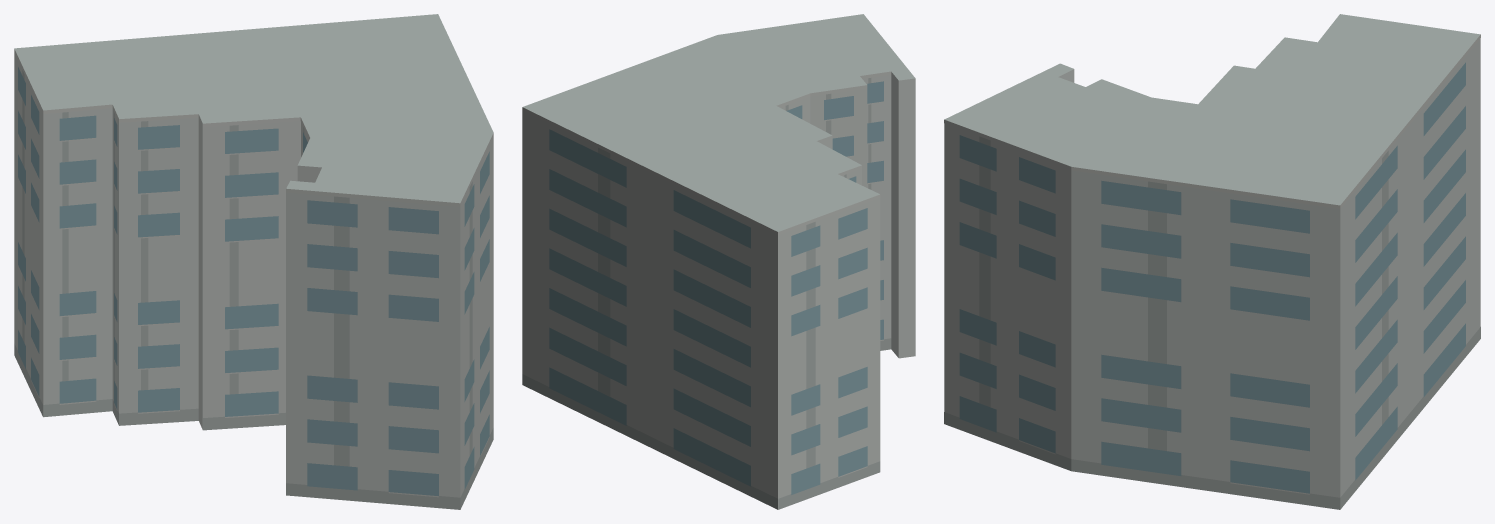
The model's file is survey-upis-32525766.glb.
3 views of the same model, side by side, from view 1: azimuth 30°, elevation 25°; view 2: azimuth 150°, elevation 25°; view 3: azimuth 270°, elevation 25° (orthographic). The views are drawn at different scales.
Parts seen in each view (by area): view 1: survey-upis-32525766.tmp; view 2: survey-upis-32525766.tmp; view 3: survey-upis-32525766.tmp.
Boxes of the visible parts, x1,y1,x2,y2 form: survey-upis-32525766.tmp: (14,14,493,509); survey-upis-32525766.tmp: (522,14,915,509); survey-upis-32525766.tmp: (944,14,1480,509).
Bounding box in the file's own units: 26.98 × 20 × 31.95.
